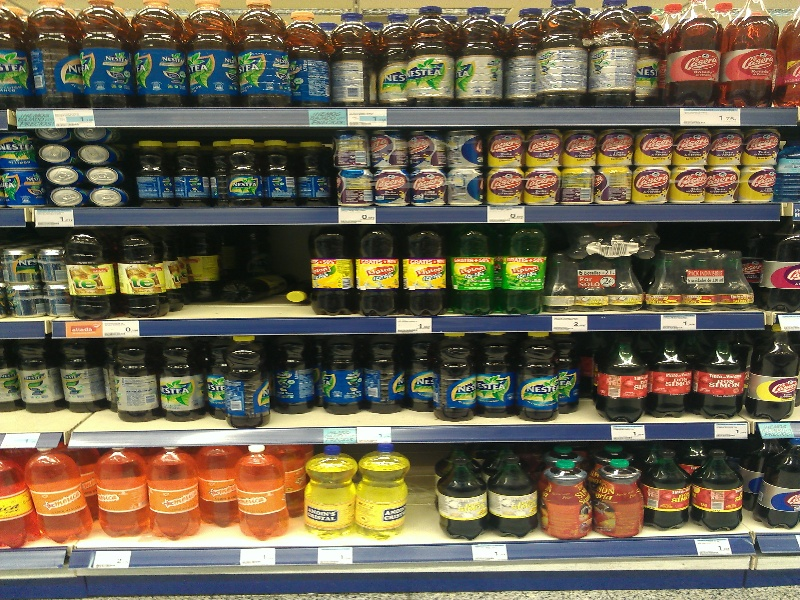lemonade: (233, 1, 295, 107), (295, 444, 357, 540), (80, 1, 133, 108), (402, 8, 459, 107), (537, 1, 589, 109), (93, 446, 152, 541), (218, 334, 278, 427), (301, 226, 360, 318), (587, 1, 638, 106), (135, 1, 186, 105), (457, 3, 507, 109), (149, 448, 206, 540), (361, 449, 416, 543), (672, 1, 719, 111), (154, 334, 208, 425), (431, 330, 482, 422), (189, 1, 232, 108), (356, 224, 401, 318), (399, 227, 446, 316), (497, 226, 546, 311), (519, 329, 560, 428), (449, 224, 493, 316), (362, 334, 408, 418)
